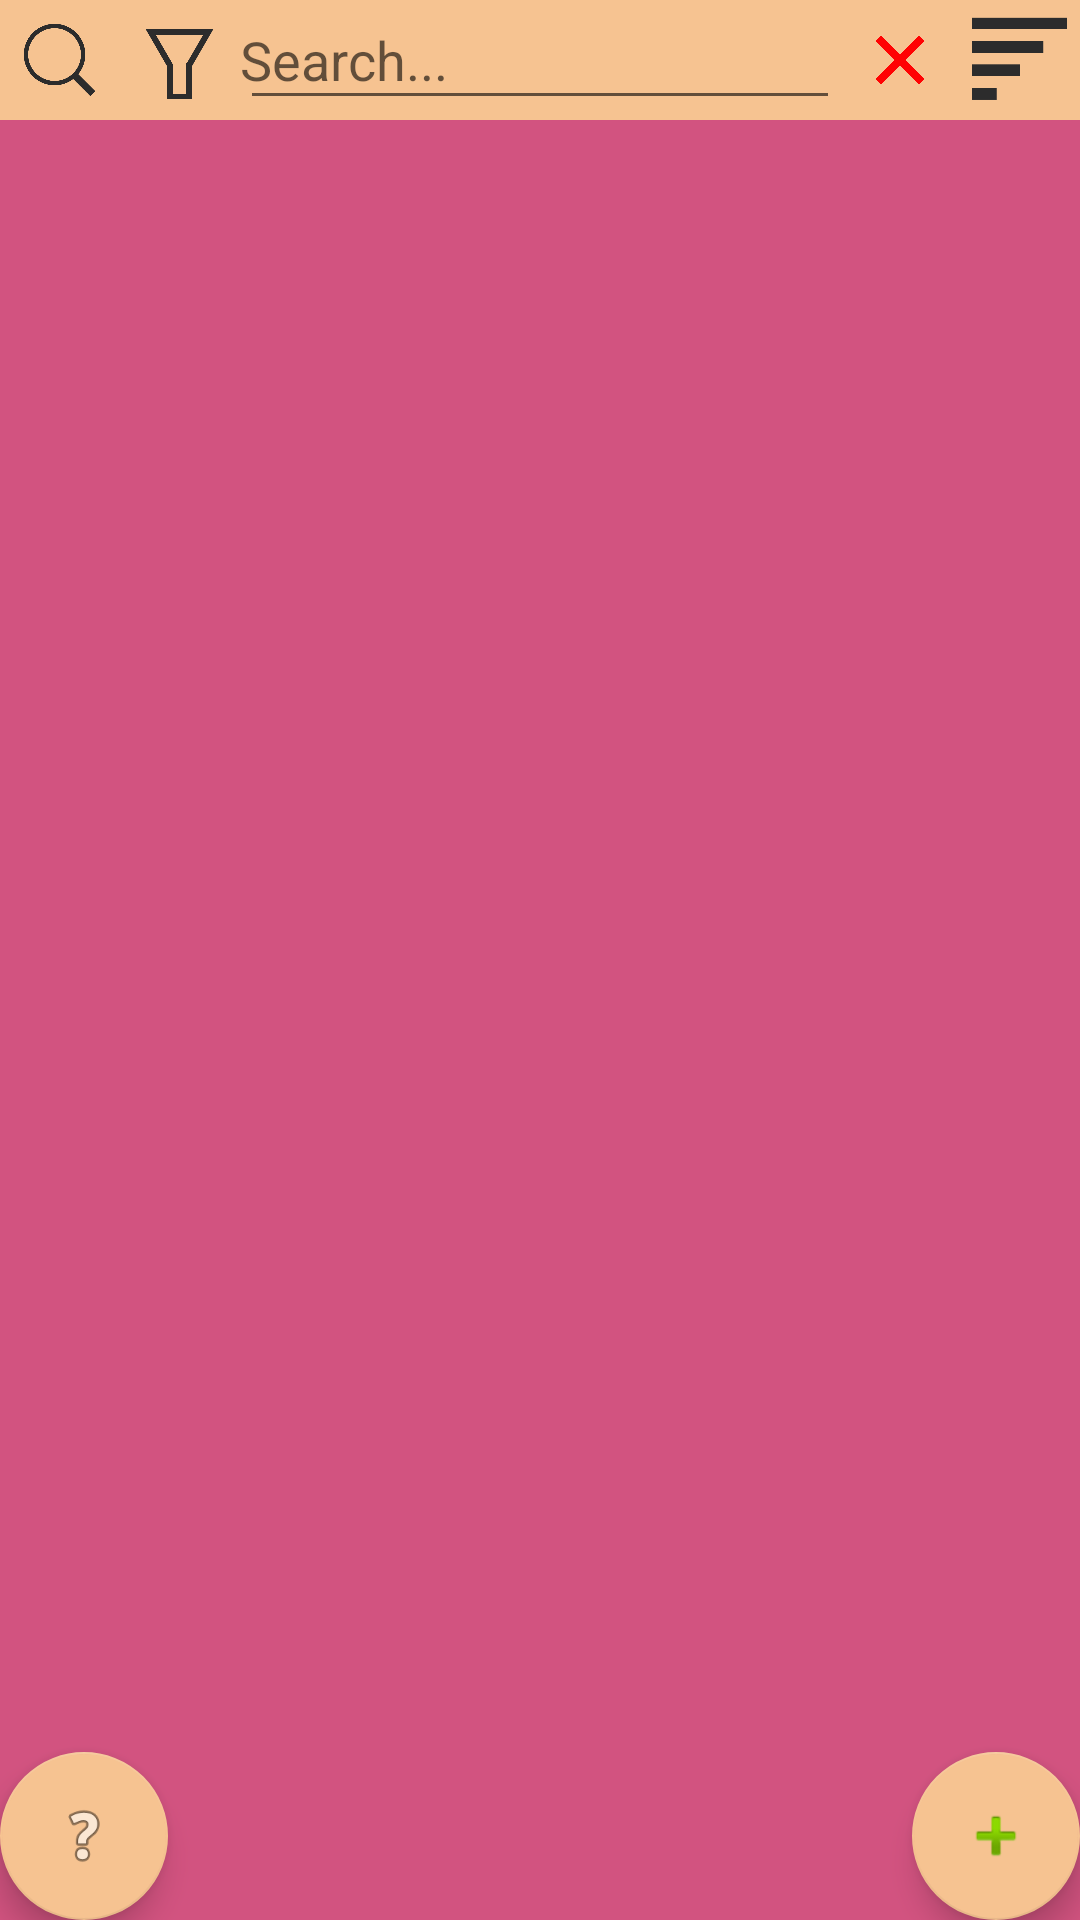

Icons on this 1080*1920 Android screen, each with the point to tap as (x,y):
add: (996,1836)
cancel: (900,60)
filter: (179,64)
help: (84,1836)
sort: (1019,58)
